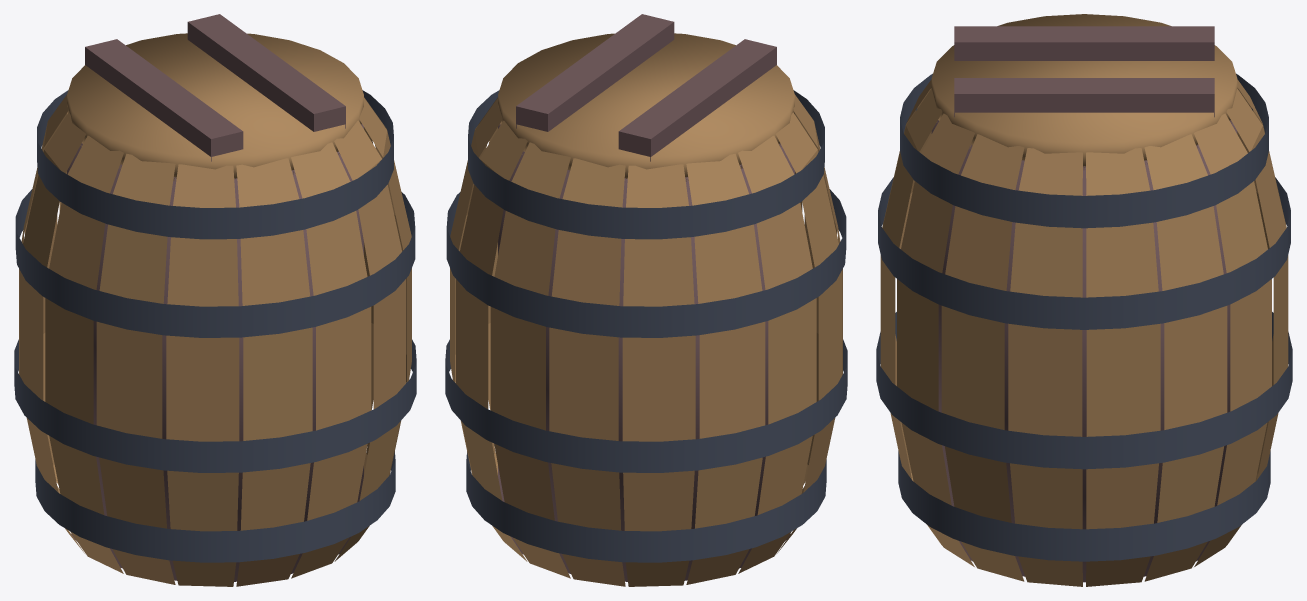
Rendered from barrel.glb.
3 renders of one model, left to right at view 1: azimuth 30°, elevation 25°; view 2: azimuth 150°, elevation 25°; view 3: azimuth 270°, elevation 25°, orthographic. The views are drawn at different scales.
Parts seen in each view (by area): view 1: Barrel_oak_stave.010, Barrel_lid, Barrel_oak_stave.011, Barrel_oak_stave.009, Barrel_oak_stave.012, Barrel_oak_stave.008, Barrel_iron_hoop.002, Barrel_iron_hoop.001, Barrel_iron_hoop.003, Barrel_iron_hoop, Barrel_oak_stave.013, Barrel_oak_stave.007 (+6 smaller); view 2: Barrel_oak_stave.005, Barrel_lid, Barrel_oak_stave.004, Barrel_oak_stave.006, Barrel_oak_stave.003, Barrel_oak_stave.007, Barrel_iron_hoop.002, Barrel_iron_hoop.001, Barrel_iron_hoop.003, Barrel_iron_hoop, Barrel_oak_stave.002, Barrel_oak_stave.008 (+6 smaller); view 3: Barrel_oak_stave, Barrel_oak_stave.015, Barrel_oak_stave.001, Barrel_oak_stave.014, Barrel_lid, Barrel_iron_hoop.002, Barrel_iron_hoop.001, Barrel_iron_hoop.003, Barrel_iron_hoop, Barrel_oak_stave.002, Barrel_oak_stave.013, Barrel_lid_brace.001 (+4 smaller).
Boxes of the visible parts, x1,y1,x2,y2 form: Barrel_oak_stave.010: (166, 164, 239, 586); Barrel_lid: (67, 33, 363, 180); Barrel_oak_stave.011: (236, 158, 312, 586); Barrel_oak_stave.009: (96, 153, 175, 584); Barrel_oak_stave.012: (291, 142, 371, 578); Barrel_oak_stave.008: (45, 135, 123, 573); Barrel_iron_hoop.002: (15, 189, 415, 337); Barrel_iron_hoop.001: (14, 339, 416, 472); Barrel_iron_hoop.003: (37, 90, 393, 239); Barrel_iron_hoop: (35, 443, 395, 562); Barrel_oak_stave.013: (334, 120, 405, 561); Barrel_oak_stave.007: (19, 112, 86, 553); Barrel_oak_stave.005: (622, 164, 695, 586); Barrel_lid: (498, 33, 794, 181); Barrel_oak_stave.004: (549, 158, 625, 586); Barrel_oak_stave.006: (686, 153, 765, 584); Barrel_oak_stave.003: (490, 142, 570, 578); Barrel_oak_stave.007: (738, 135, 816, 573); Barrel_iron_hoop.002: (446, 189, 846, 337); Barrel_iron_hoop.001: (445, 339, 847, 472); Barrel_iron_hoop.003: (468, 90, 824, 239); Barrel_iron_hoop: (466, 443, 826, 562); Barrel_oak_stave.002: (456, 120, 527, 561); Barrel_oak_stave.008: (775, 112, 842, 553); Barrel_oak_stave: (1086, 148, 1160, 586); Barrel_oak_stave.015: (1008, 148, 1082, 586); Barrel_oak_stave.001: (1144, 134, 1227, 581); Barrel_oak_stave.014: (941, 134, 1024, 581); Barrel_lid: (931, 14, 1237, 169); Barrel_iron_hoop.002: (878, 177, 1290, 329); Barrel_iron_hoop.001: (876, 312, 1292, 469); Barrel_iron_hoop.003: (900, 73, 1268, 228); Barrel_iron_hoop: (898, 451, 1270, 561); Barrel_oak_stave.002: (1194, 113, 1271, 566); Barrel_oak_stave.013: (897, 113, 974, 566); Barrel_lid_brace.001: (954, 78, 1214, 117).
Bounding box in the file's own units: 0.816 × 1 × 0.816.
